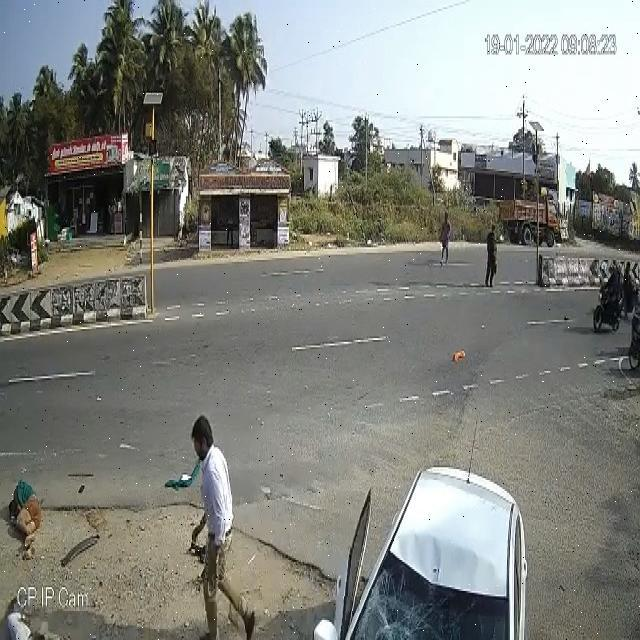accident: (335, 443, 529, 640), (7, 460, 45, 553)
